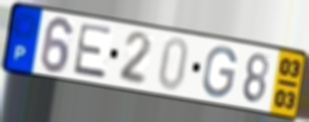0: (156, 35, 192, 94)
2: (117, 30, 153, 90)
6: (38, 15, 75, 76)
8: (241, 52, 271, 105)
E: (71, 21, 115, 82)
G: (201, 44, 239, 100)
